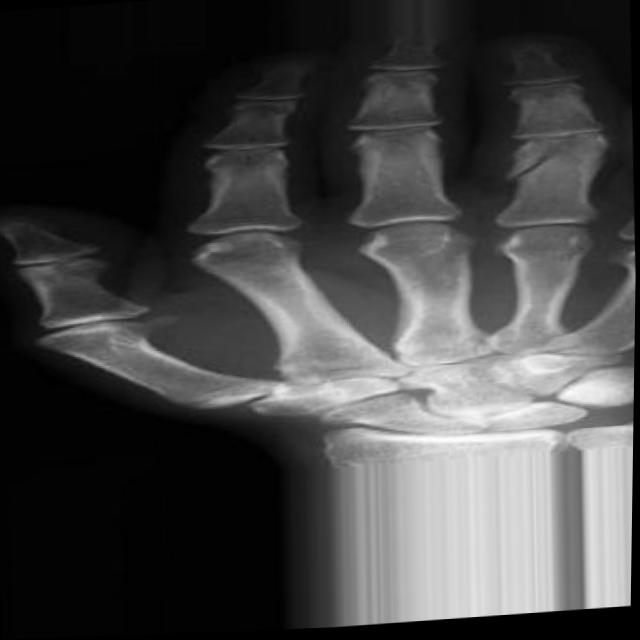fracture: (485, 133, 582, 201)
